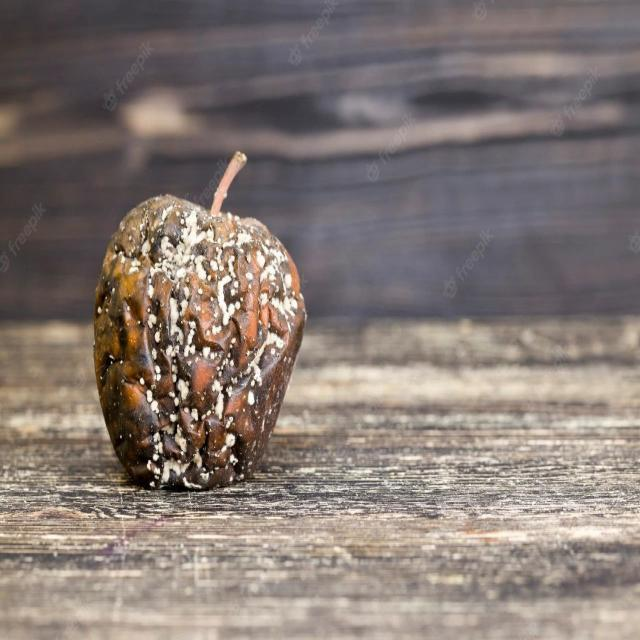Rotten: (82, 200, 323, 500)
